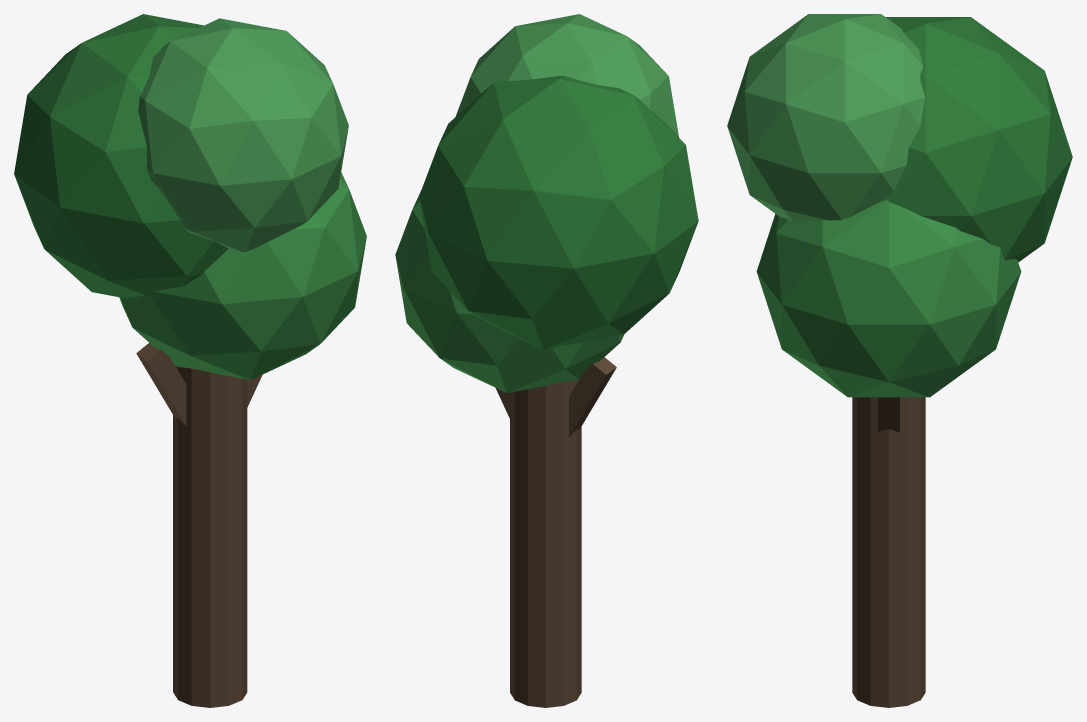
Rendered from oak_tree.glb.
3 renders of one model, left to right at view 1: azimuth 30°, elevation 25°; view 2: azimuth 150°, elevation 25°; view 3: azimuth 270°, elevation 25°, orthographic. The views are drawn at different scales.
Parts seen in each view (by area): view 1: OakTree_Summer; view 2: OakTree_Summer; view 3: OakTree_Summer.
Part boxes in pixels (left/top/right/bottom): OakTree_Summer: left=14, top=14, right=366, bottom=707; OakTree_Summer: left=395, top=14, right=698, bottom=707; OakTree_Summer: left=727, top=14, right=1072, bottom=707.
Size of the model in its own units: 0.4514 by 1.01 by 0.47.
